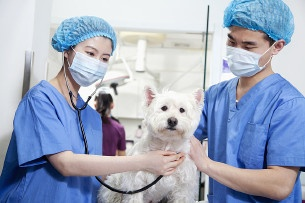Mask: (73, 42, 116, 85)
